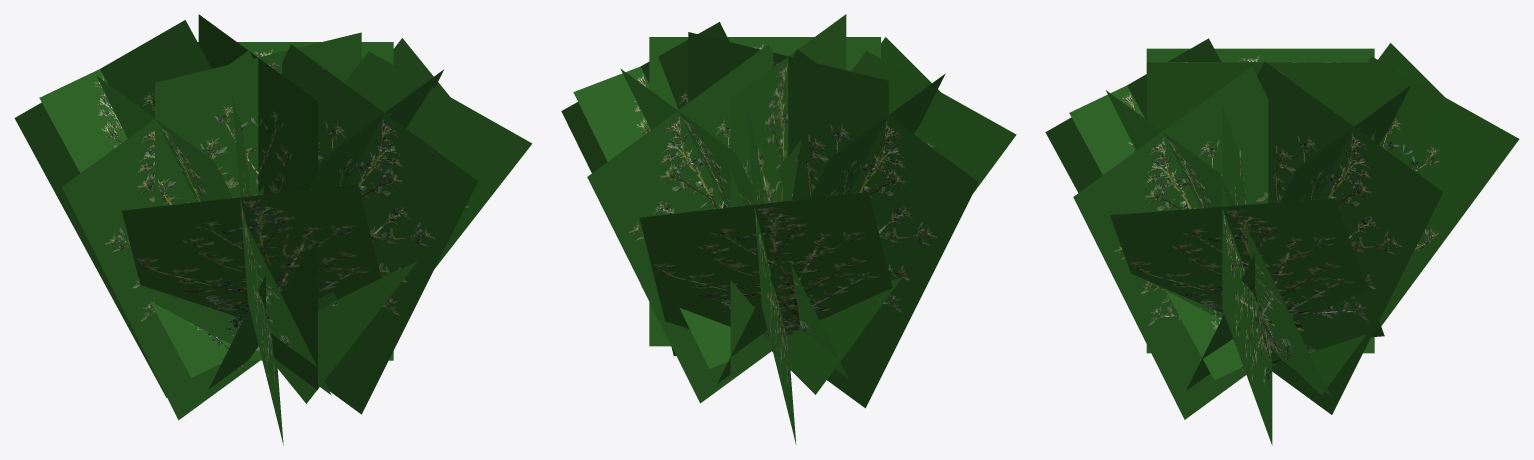
The model's file is bush11.FBX.
The picture shows the model from 3 angles, left to right: view 1: azimuth 30°, elevation 25°; view 2: azimuth 150°, elevation 25°; view 3: azimuth 270°, elevation 25°; orthographic projection. The views are drawn at different scales.
Visible parts, largest first — view 1: bush11; view 2: bush11; view 3: bush11.
Boxes of the visible parts, <box> form: bush11: <box>14,14,532,445</box>; bush11: <box>561,14,1016,444</box>; bush11: <box>1045,38,1519,445</box>.
Bounding box in the file's own units: 3.02 × 2.36 × 2.88.
